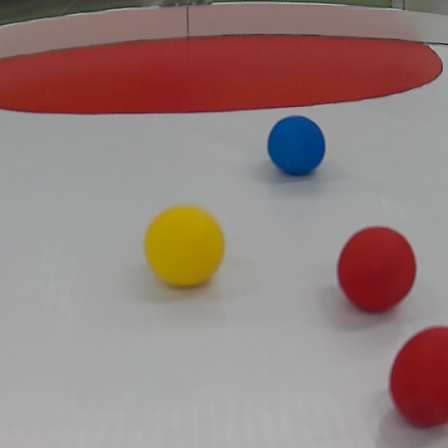blue: (262, 110, 327, 176)
red: (335, 226, 417, 312), (391, 321, 448, 431)
red_base: (0, 28, 446, 116)
yellow: (142, 201, 228, 289)
